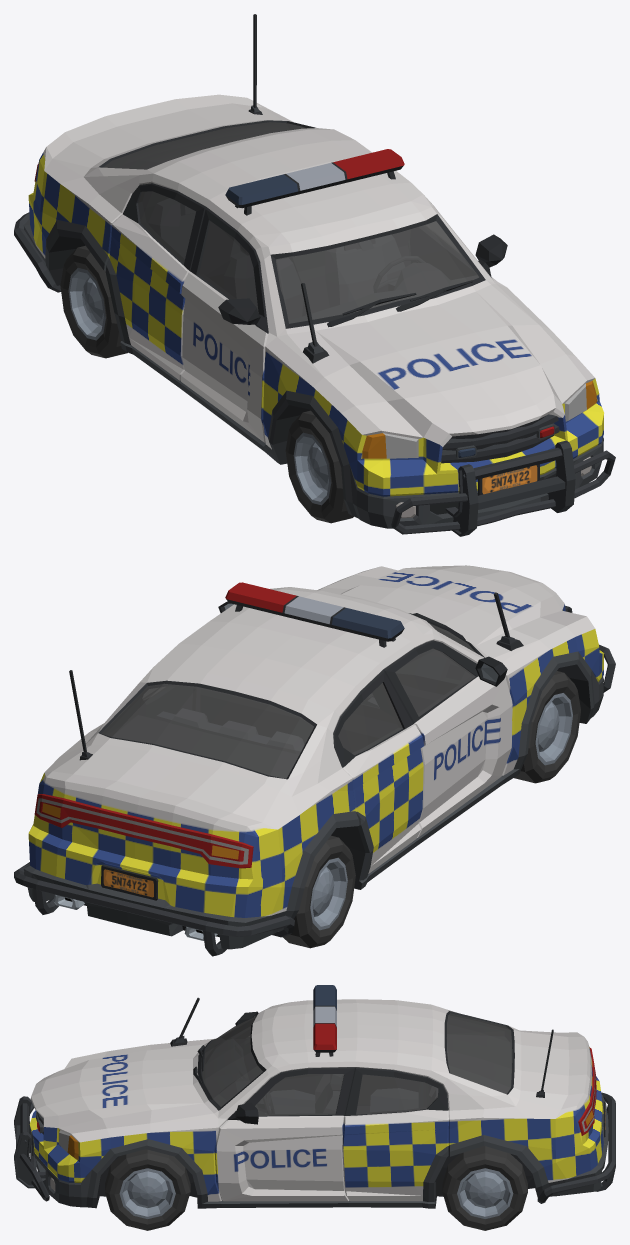
The model's file is SM_Veh_Car_02.fbx.
3 renders of one model, top to bottom at view 1: azimuth 30°, elevation 25°; view 2: azimuth 150°, elevation 25°; view 3: azimuth 270°, elevation 25°, orthographic. The views are drawn at different scales.
Visible parts, largest first — view 1: SM_Veh_Car_02, SM_Veh_Car_02_Door_Glass, SM_Veh_Car_02_Door_fr, SM_Veh_Car_02_Door_rr, SM_Veh_Car_02_Wheel_fr, SM_Veh_Car_02_Wheel_rr, SM_Veh_Car_02_Door_fr_Glass, SM_Veh_Car_02_Door_fl, SM_Veh_Car_02_Door_rr_Glass; view 2: SM_Veh_Car_02, SM_Veh_Car_02_Door_fr, SM_Veh_Car_02_Door_Glass, SM_Veh_Car_02_Door_rr, SM_Veh_Car_02_Wheel_rr, SM_Veh_Car_02_Wheel_fr, SM_Veh_Car_02_Door_fr_Glass, SM_Veh_Car_02_Door_rr_Glass, SM_Veh_Car_02_Door_rl; view 3: SM_Veh_Car_02, SM_Veh_Car_02_Door_fl, SM_Veh_Car_02_Door_rl, SM_Veh_Car_02_Door_Glass, SM_Veh_Car_02_Wheel_rl, SM_Veh_Car_02_Wheel_fl, SM_Veh_Car_02_Door_fl_Glass, SM_Veh_Car_02_Door_rl_Glass, SM_Veh_Car_02_Door_fr, SM_Veh_Car_02_Door_rr.
Part boxes in pixels (left/top/right/bottom): SM_Veh_Car_02: left=14, top=14, right=615, bottom=536; SM_Veh_Car_02_Door_Glass: left=103, top=122, right=479, bottom=323; SM_Veh_Car_02_Door_fr: left=181, top=207, right=268, bottom=442; SM_Veh_Car_02_Door_rr: left=105, top=183, right=206, bottom=380; SM_Veh_Car_02_Wheel_fr: left=285, top=410, right=353, bottom=523; SM_Veh_Car_02_Wheel_rr: left=60, top=245, right=127, bottom=358; SM_Veh_Car_02_Door_fr_Glass: left=199, top=221, right=258, bottom=313; SM_Veh_Car_02_Door_fl: left=410, top=226, right=507, bottom=280; SM_Veh_Car_02_Door_rr_Glass: left=138, top=191, right=195, bottom=262; SM_Veh_Car_02: left=14, top=565, right=615, bottom=956; SM_Veh_Car_02_Door_fr: left=383, top=640, right=513, bottom=837; SM_Veh_Car_02_Door_Glass: left=102, top=623, right=476, bottom=778; SM_Veh_Car_02_Door_rr: left=333, top=670, right=423, bottom=880; SM_Veh_Car_02_Wheel_rr: left=283, top=835, right=355, bottom=948; SM_Veh_Car_02_Wheel_fr: left=514, top=671, right=580, bottom=783; SM_Veh_Car_02_Door_fr_Glass: left=395, top=648, right=475, bottom=716; SM_Veh_Car_02_Door_rr_Glass: left=338, top=683, right=402, bottom=755; SM_Veh_Car_02_Door_rl: left=138, top=686, right=192, bottom=718; SM_Veh_Car_02: left=14, top=985, right=615, bottom=1208; SM_Veh_Car_02_Door_fl: left=214, top=1067, right=354, bottom=1201; SM_Veh_Car_02_Door_rl: left=342, top=1067, right=448, bottom=1201; SM_Veh_Car_02_Door_Glass: left=202, top=1013, right=512, bottom=1106; SM_Veh_Car_02_Wheel_rl: left=442, top=1146, right=527, bottom=1230; SM_Veh_Car_02_Wheel_fl: left=105, top=1149, right=190, bottom=1230; SM_Veh_Car_02_Door_fl_Glass: left=255, top=1074, right=344, bottom=1115; SM_Veh_Car_02_Door_rl_Glass: left=356, top=1074, right=438, bottom=1114; SM_Veh_Car_02_Door_fr: left=230, top=1011, right=315, bottom=1094; SM_Veh_Car_02_Door_rr: left=358, top=1075, right=419, bottom=1105.
Size of the model in its own units: 219 by 190 by 539.
